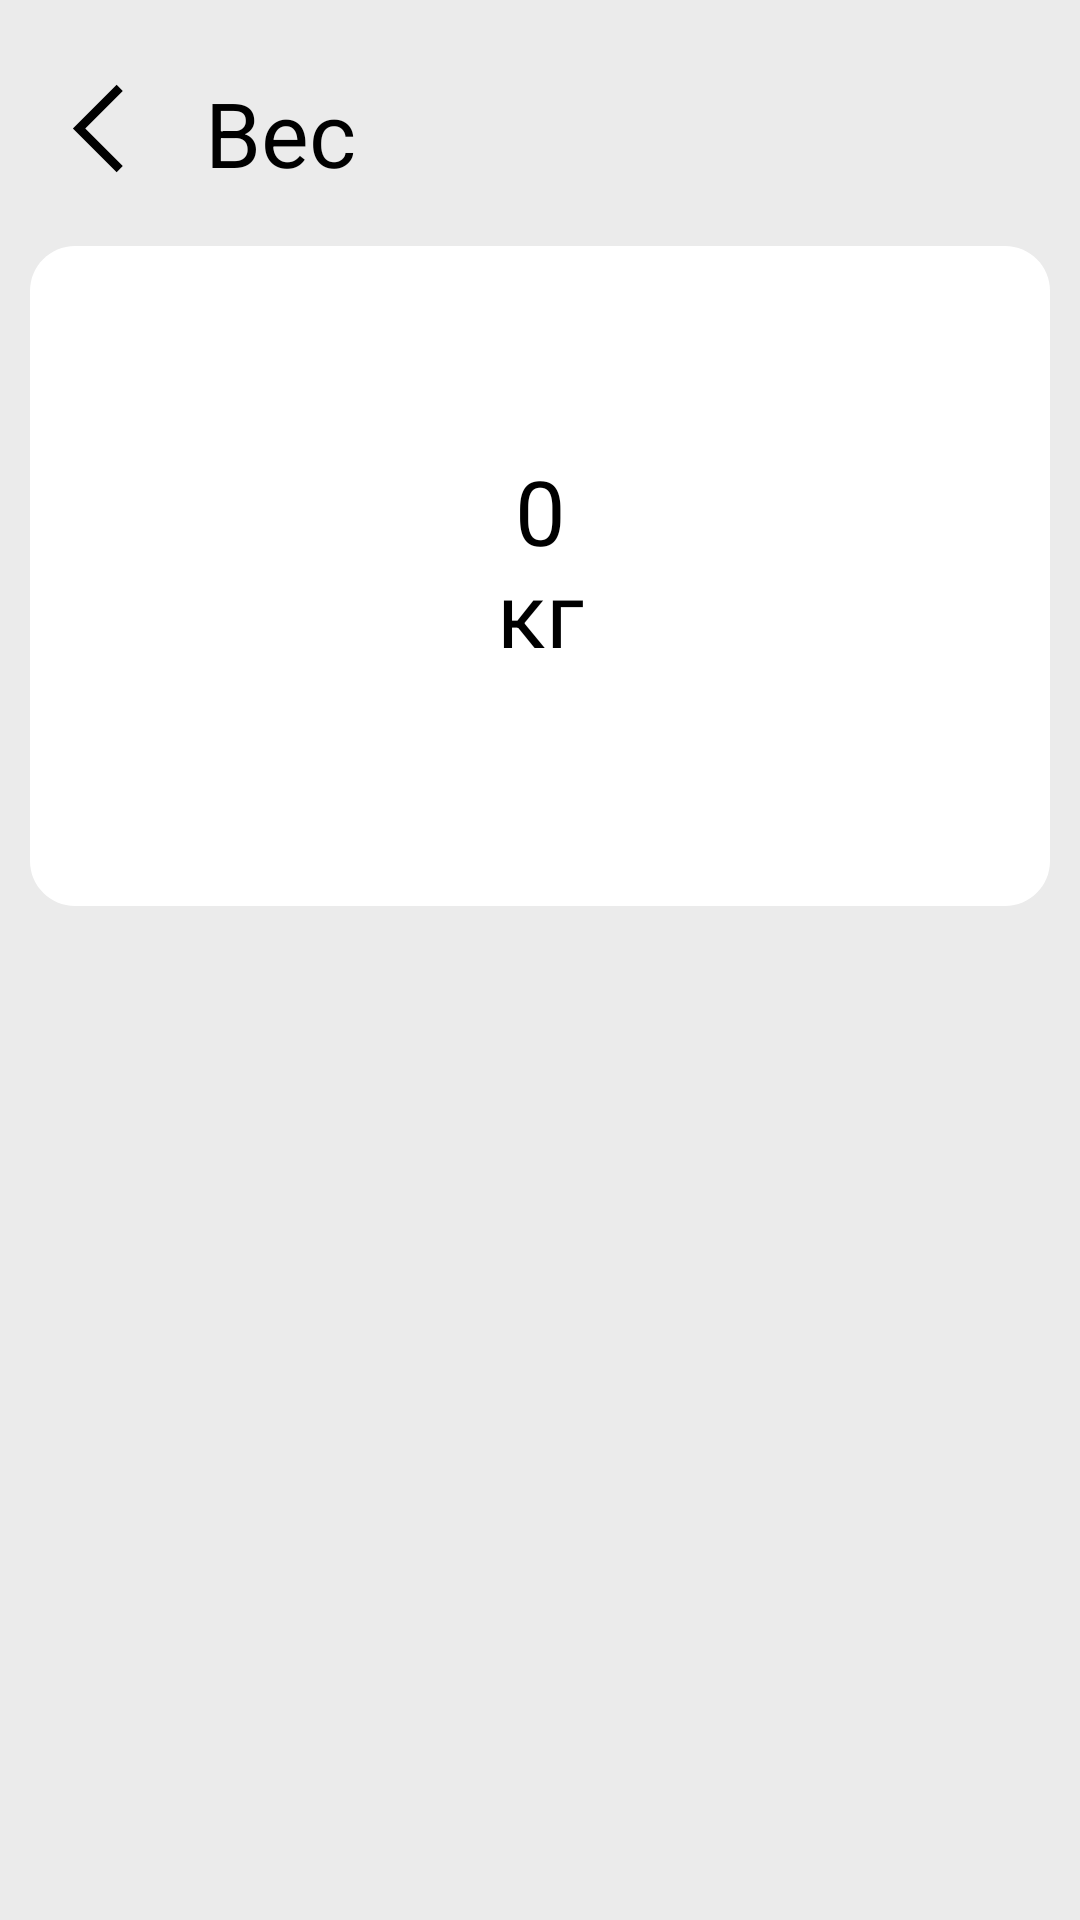

Icons on this 1080×1920 Android screen, each with the point to tap as (x,y):
arrow back: (98,128)
